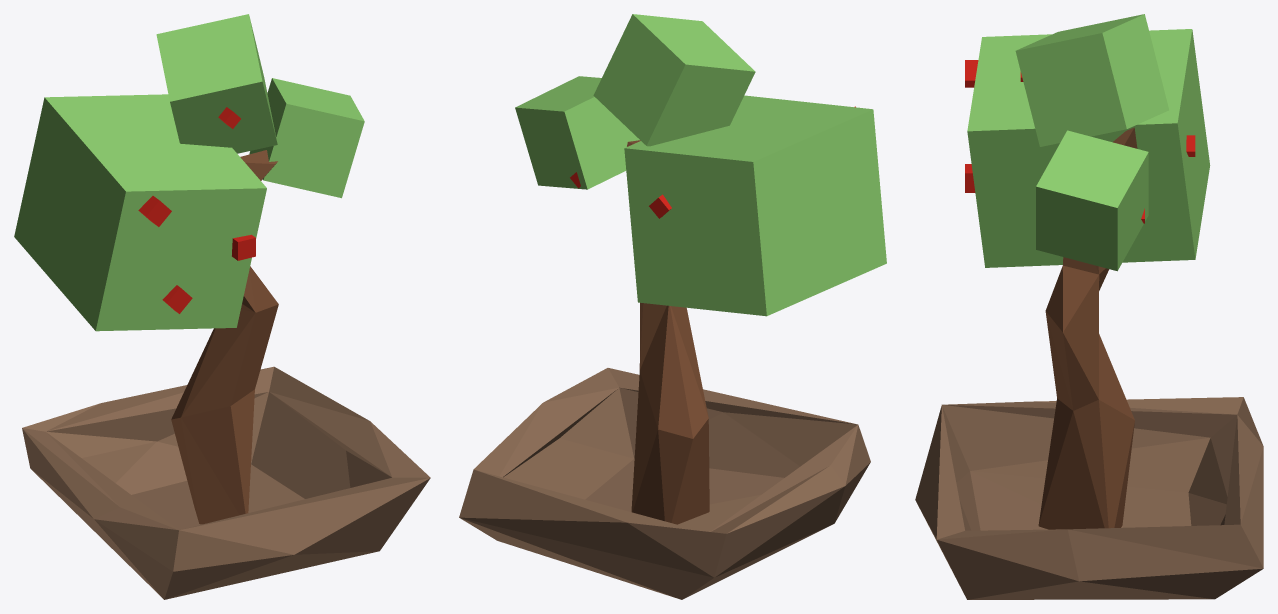
The model's file is Plant00.fbx.
The picture shows the model from 3 angles, left to right: view 1: azimuth 30°, elevation 25°; view 2: azimuth 150°, elevation 25°; view 3: azimuth 270°, elevation 25°; orthographic projection. The views are drawn at different scales.
Parts seen in each view (by area): view 1: Cube.003, Cube.005, Cube.004, Cube.007, Cube.006, Cube.017, Cube.016; view 2: Cube.003, Cube.005, Cube.007, Cube.004, Cube.006; view 3: Cube.003, Cube.005, Cube.004, Cube.007, Cube.006.
Boxes of the visible parts, x1,y1,x2,y2 form: Cube.003: [22, 366, 430, 599]; Cube.005: [14, 94, 266, 331]; Cube.004: [171, 150, 278, 524]; Cube.007: [156, 14, 277, 153]; Cube.006: [249, 78, 364, 198]; Cube.017: [138, 196, 171, 226]; Cube.016: [232, 234, 255, 260]; Cube.003: [459, 368, 870, 599]; Cube.005: [624, 95, 886, 316]; Cube.007: [593, 14, 755, 146]; Cube.004: [627, 140, 709, 524]; Cube.006: [515, 76, 639, 189]; Cube.003: [915, 397, 1263, 599]; Cube.005: [967, 29, 1210, 267]; Cube.004: [1038, 127, 1137, 529]; Cube.007: [1015, 14, 1168, 146]; Cube.006: [1036, 130, 1148, 271].
Bounding box in the file's own units: 35.52 × 54.59 × 32.17.
